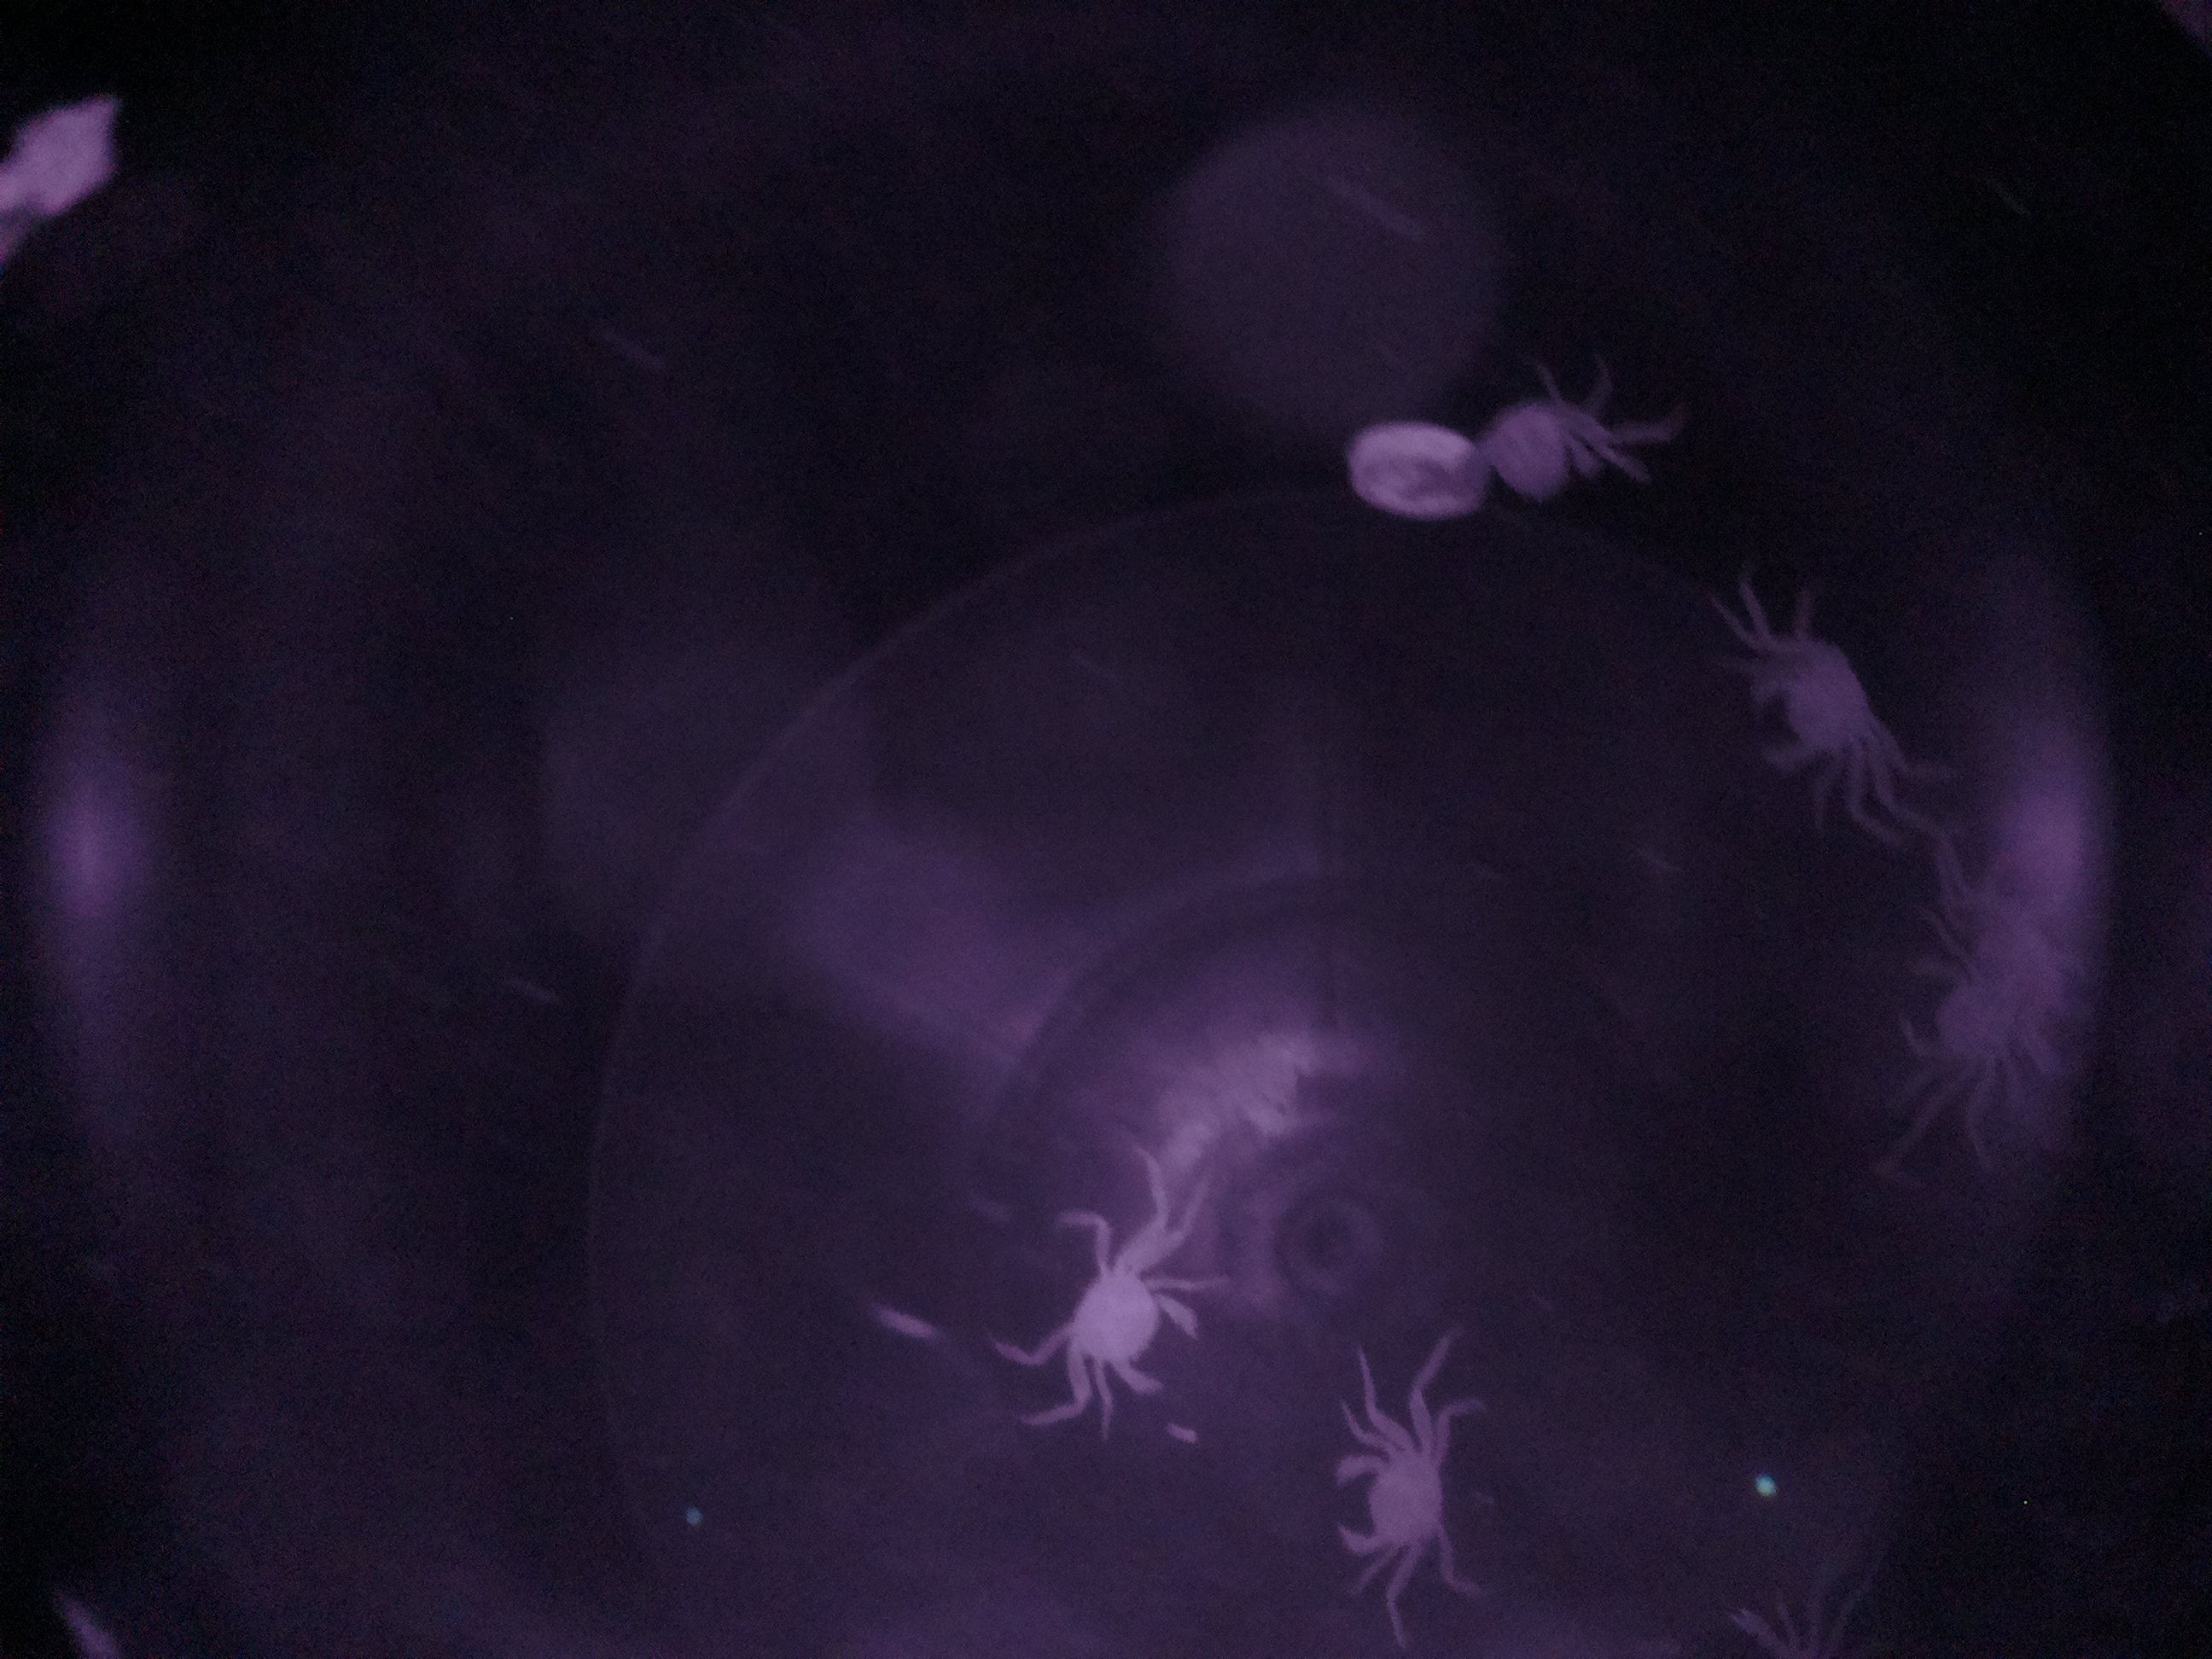Crab: (996, 1169, 1214, 1413), (1707, 606, 1904, 798), (1318, 1361, 1470, 1608)
